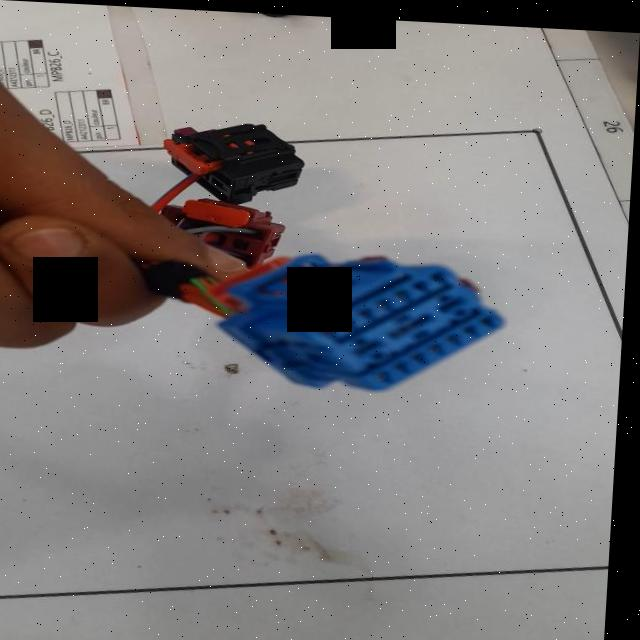connector: (214, 246, 514, 400), (166, 118, 308, 205)
